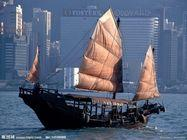fanchuan: (16, 10, 165, 128)
